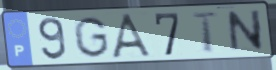7: (153, 12, 181, 58)
9: (37, 16, 68, 62)
A: (109, 12, 156, 59)
G: (71, 15, 111, 60)
N: (226, 8, 266, 54)
T: (190, 11, 221, 54)
